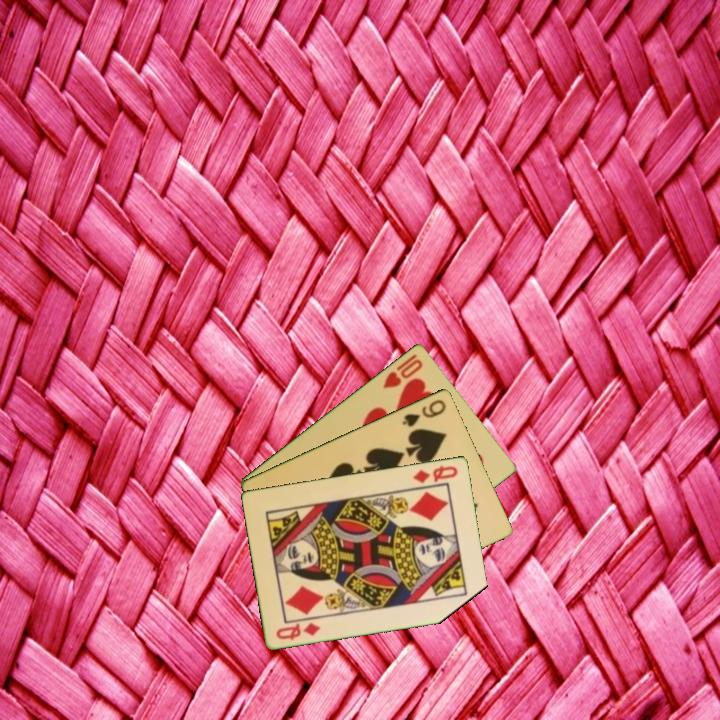10h: (379, 355, 426, 391)
9s: (398, 396, 449, 429)
Qd: (410, 462, 461, 486), (273, 619, 324, 642)
